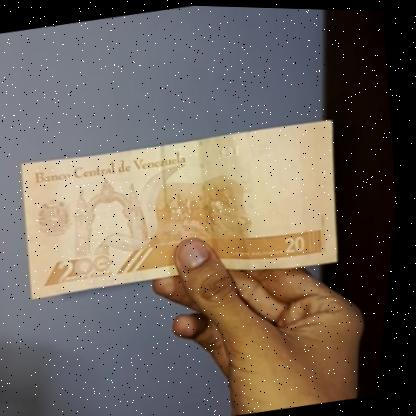twenty-back-vef: (12, 108, 358, 310)
